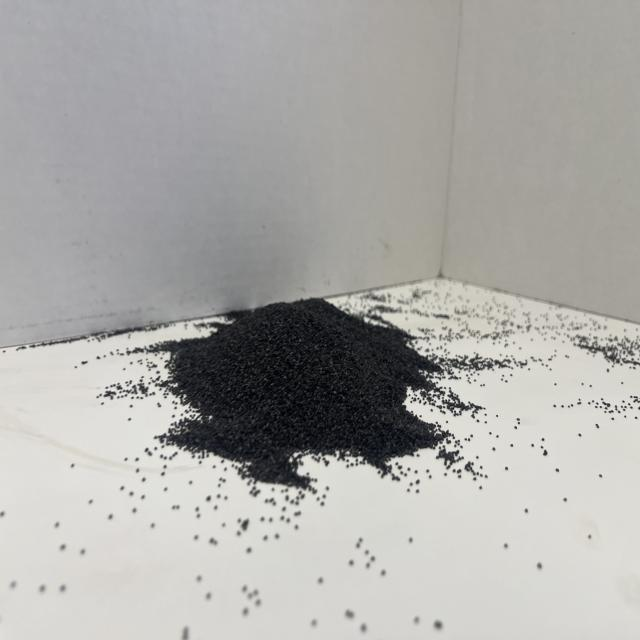Poppy Seeds: (158, 271, 467, 516)
